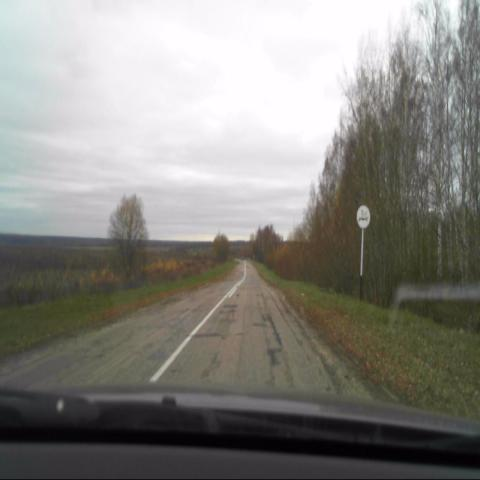3_12: (357, 204, 371, 230)
